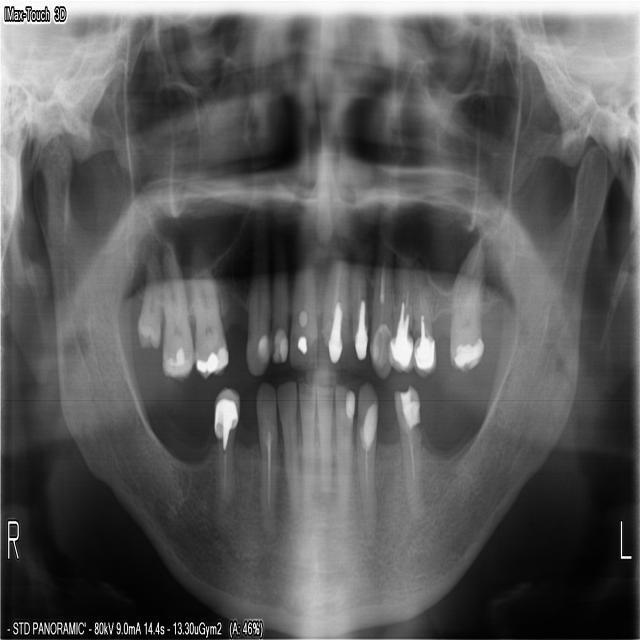LCD: (353, 376, 379, 514)
LCU: (367, 268, 394, 380)
LID: (333, 374, 358, 507), (315, 376, 333, 501)
LIU: (320, 261, 350, 376), (351, 266, 370, 367)
LMU: (447, 249, 484, 374)
LPMD: (391, 381, 422, 516)
LPMU: (384, 266, 418, 374), (410, 271, 437, 379)
RCD: (251, 376, 279, 539)
RCU: (243, 286, 271, 375)
RID: (274, 376, 300, 512), (296, 377, 315, 513)
RIU: (287, 267, 317, 373), (269, 272, 288, 364)
RMU: (159, 248, 193, 381), (132, 254, 162, 353)
RPMD: (210, 379, 240, 500)
RPMU: (186, 270, 230, 378)
